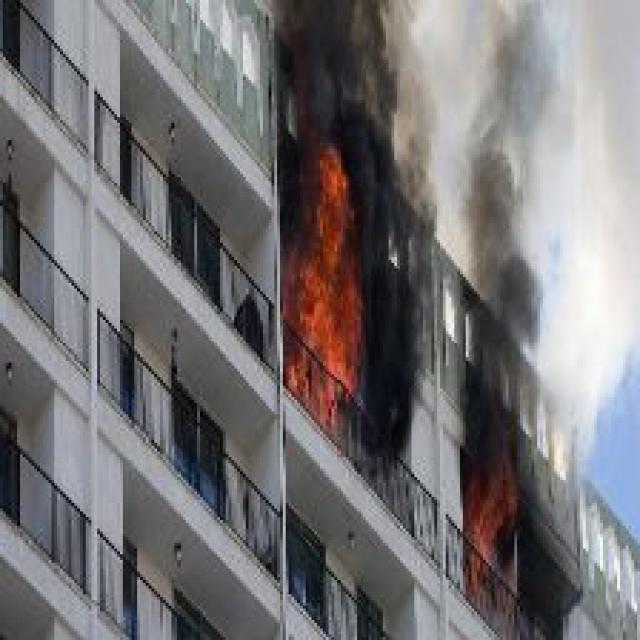fire: (283, 134, 374, 437), (454, 440, 523, 603)
